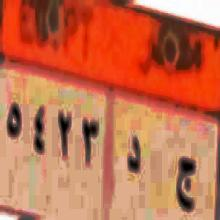2: (55, 108, 73, 168)
3: (78, 107, 102, 175)
4: (30, 102, 51, 162)
5: (5, 92, 24, 150)
daal: (123, 124, 147, 181)
jeem: (175, 146, 197, 217)
